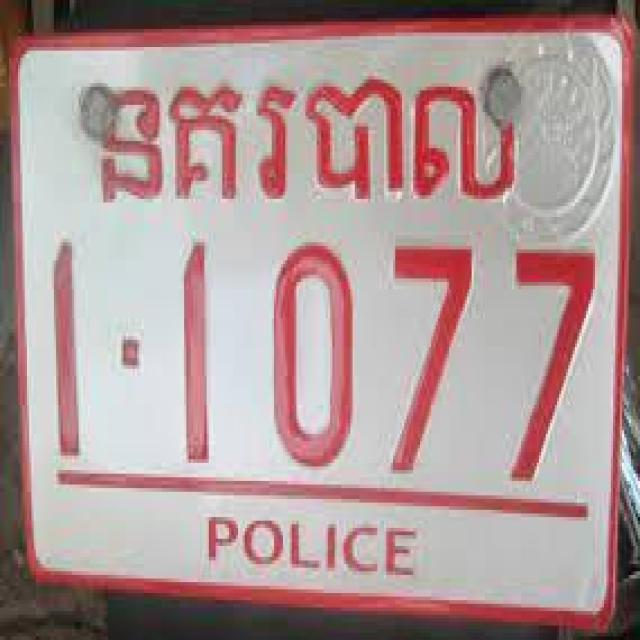Police: (94, 83, 520, 214)
